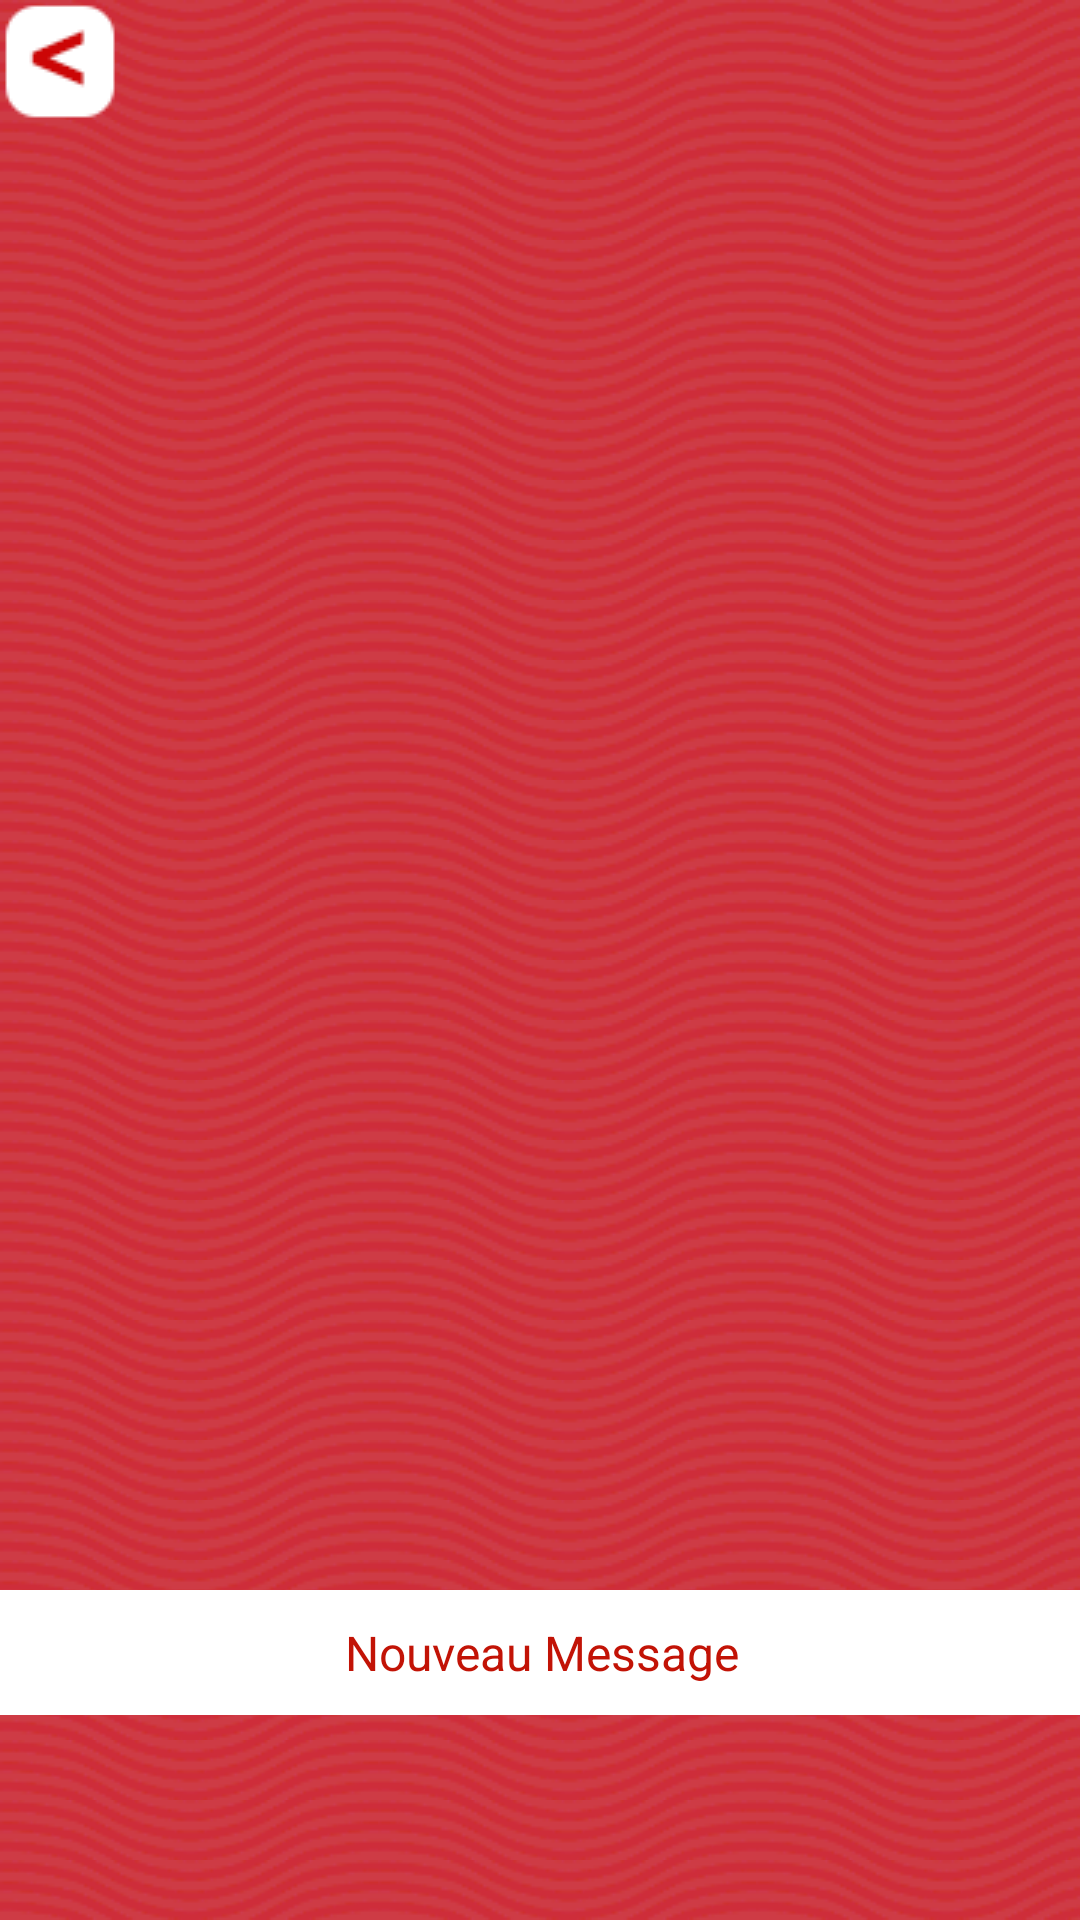

Where icons sit on this 1080 x 1920 app screen, as (x1,y1,x2,y2):
back: (5,5,115,118)
